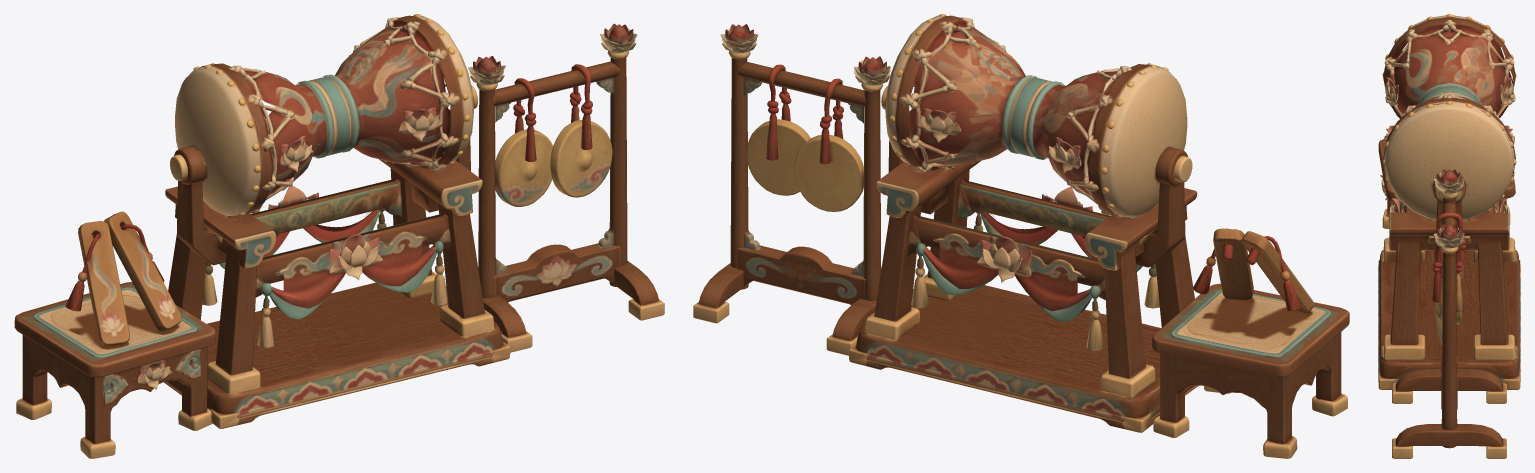
File: percussion.glb
3 renders of one model, left to right at view 1: azimuth 30°, elevation 25°; view 2: azimuth 150°, elevation 25°; view 3: azimuth 270°, elevation 25°, orthographic. The views are drawn at different scales.
Parts seen in each view (by area): view 1: tripo_01267072_0130_4766_a720_bcaea18d9326; view 2: tripo_01267072_0130_4766_a720_bcaea18d9326; view 3: tripo_01267072_0130_4766_a720_bcaea18d9326.
Part boxes in pixels (x1,y1,x2,y2): tripo_01267072_0130_4766_a720_bcaea18d9326: (14,14,664,458); tripo_01267072_0130_4766_a720_bcaea18d9326: (693,14,1349,458); tripo_01267072_0130_4766_a720_bcaea18d9326: (1378,14,1520,458).
Size of the model in its own units: 0.9995 by 0.521 by 0.2446.
1 material, 1 textured.
